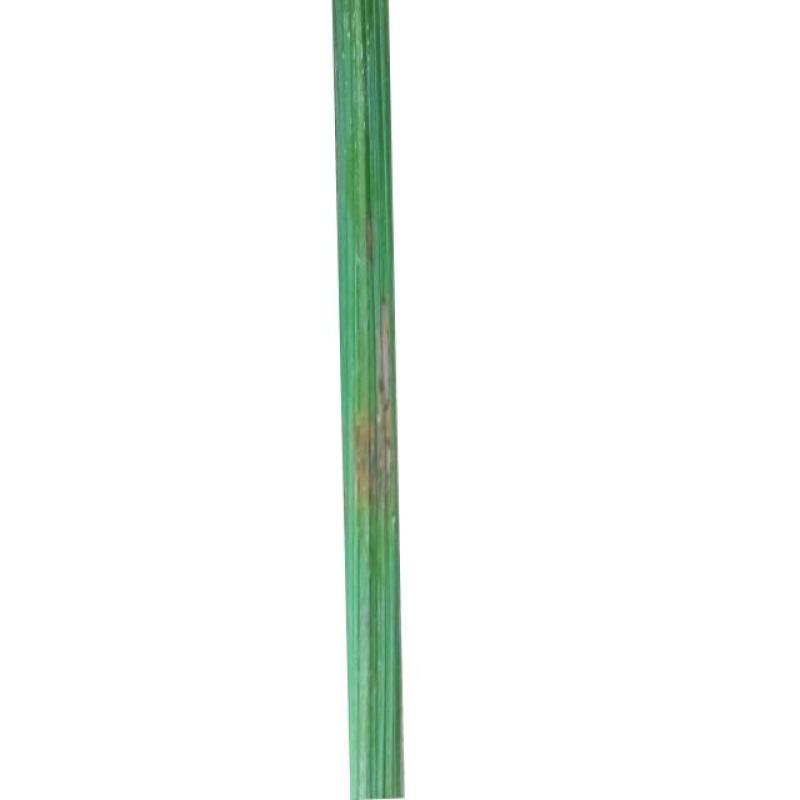Leaf_Blast: (352, 291, 394, 559), (362, 201, 376, 279)
